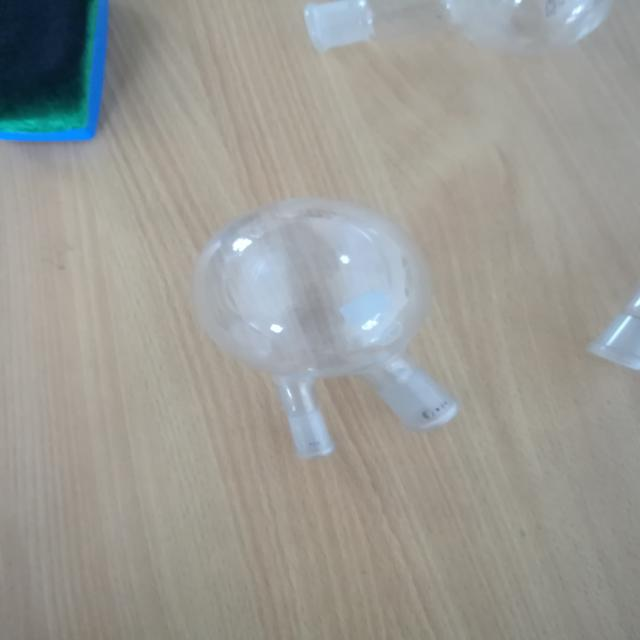Round_Bottom_Flask_Borosilicate_Glass_2_Neck: (174, 173, 486, 470)
